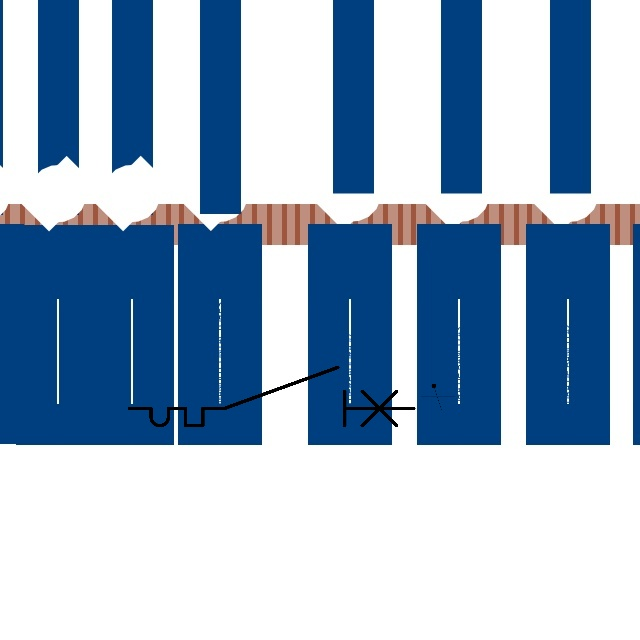interruptor_termomagnetico: (122, 360, 421, 433)
